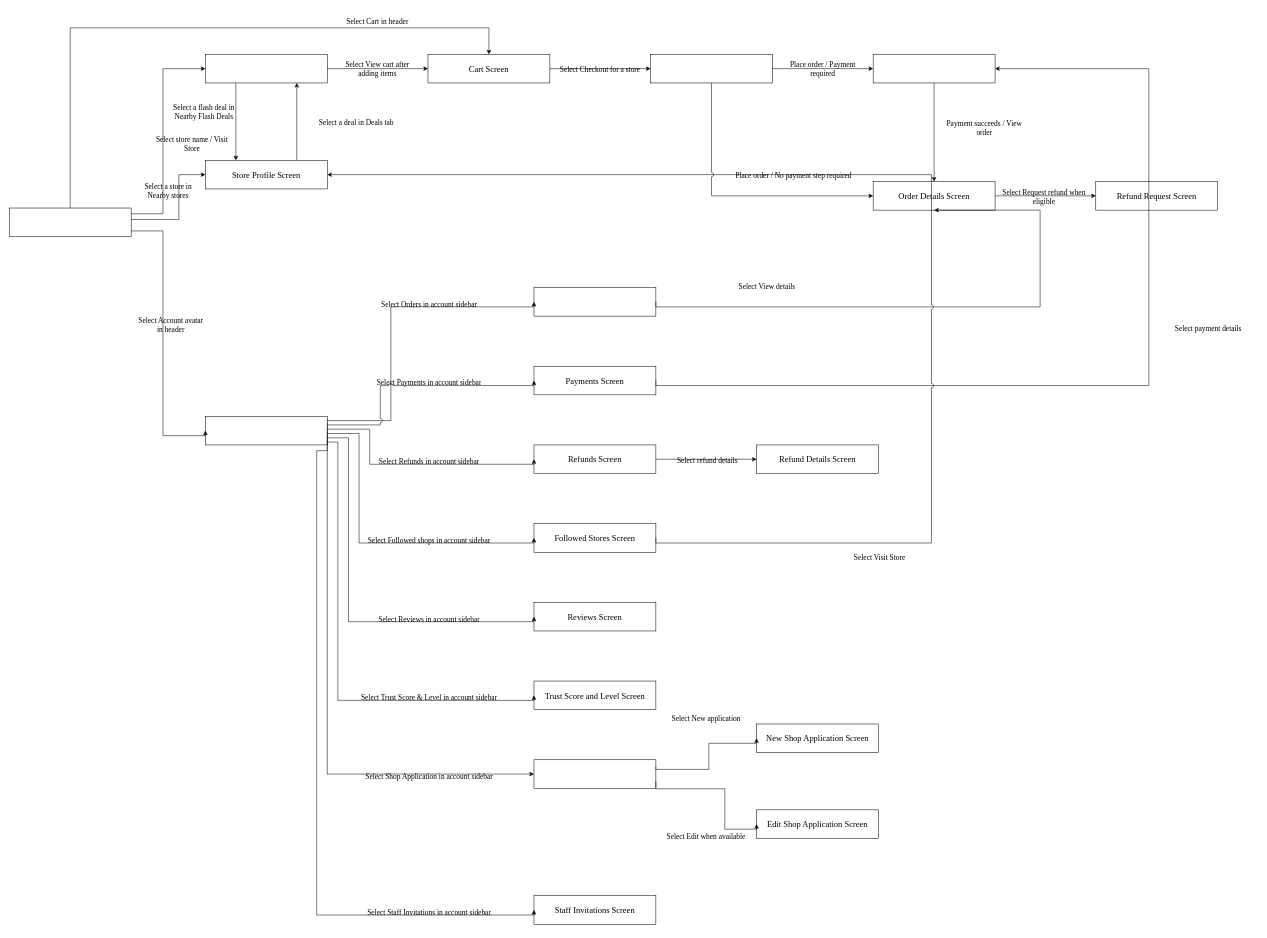
The diagram is 1267 pixels wide and 938 high, and some of its shapes have lost their labels. The centre of each missing label's shape, as x and y in pixels:
Checkout Screen: the point at 711,68
Customer Home Screen: the point at 70,222
Flash Deal Details Screen: the point at 266,68
Orders Screen: the point at 594,301
Payment Details Screen: the point at 934,68
Profile Screen: the point at 266,430
Shop Application Screen: the point at 594,773
